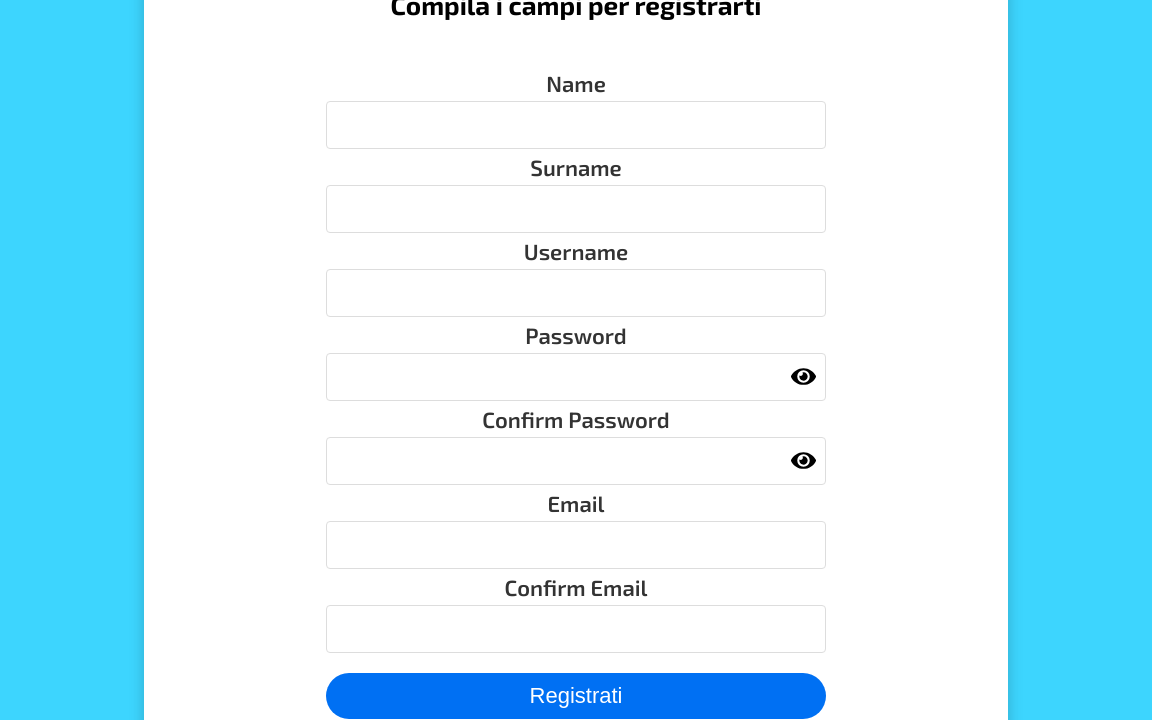
Test: Input Field Props › should hide the password when the toggle button is clicked
(page scrolled)
expect the 1st password field is shown: met, box [326,353,826,401]
Click the 1st button at (804, 380), box [791,364,816,395]
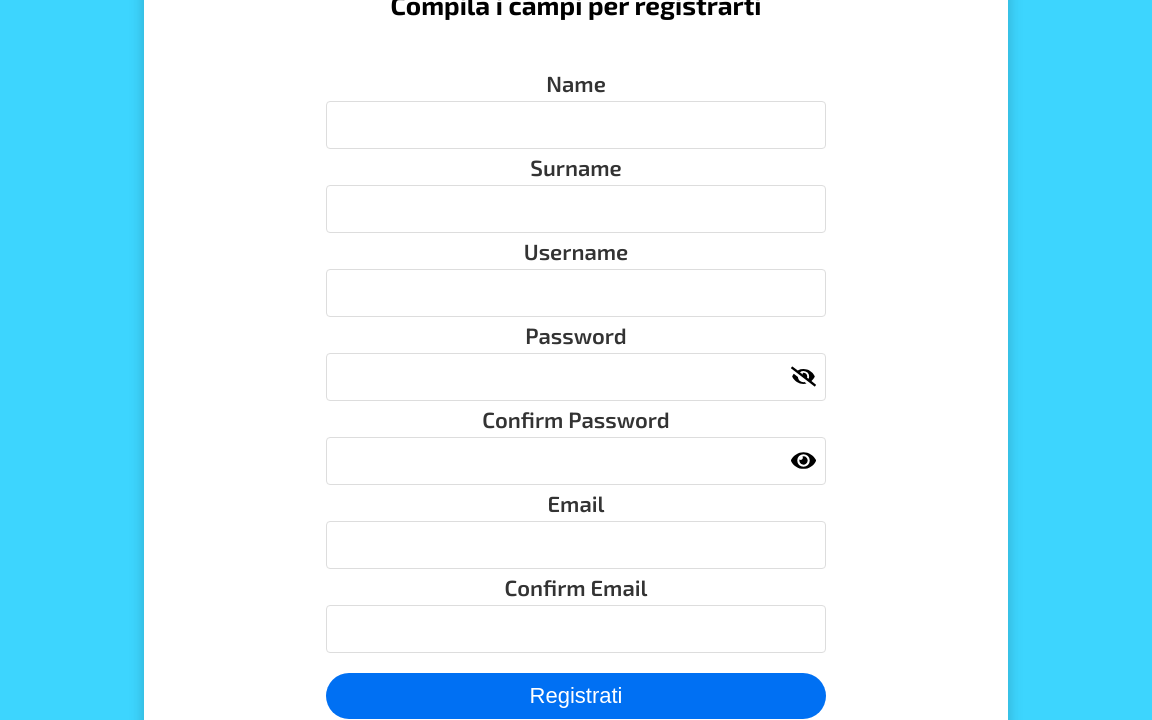
Type "hello" into the 4th field at (576, 377), box [326,353,826,401]
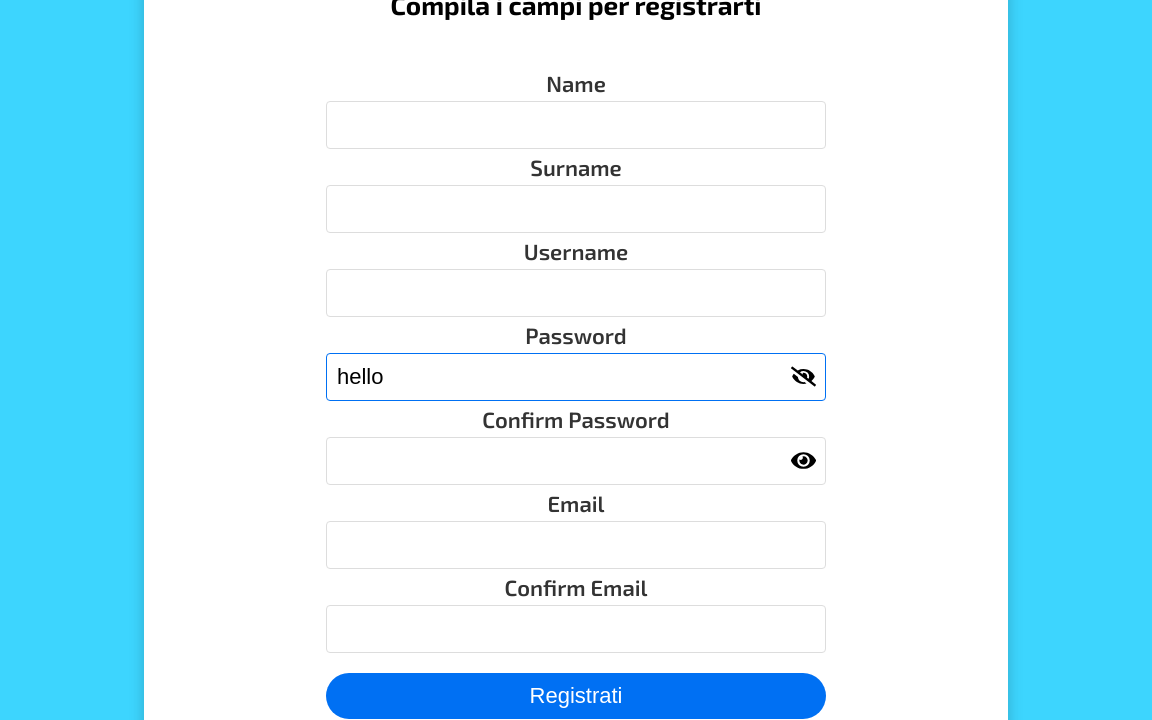
expect the 4th field shows its text: met, box [326,353,826,401]
Click the 1st button at (804, 380), box [791,364,816,395]
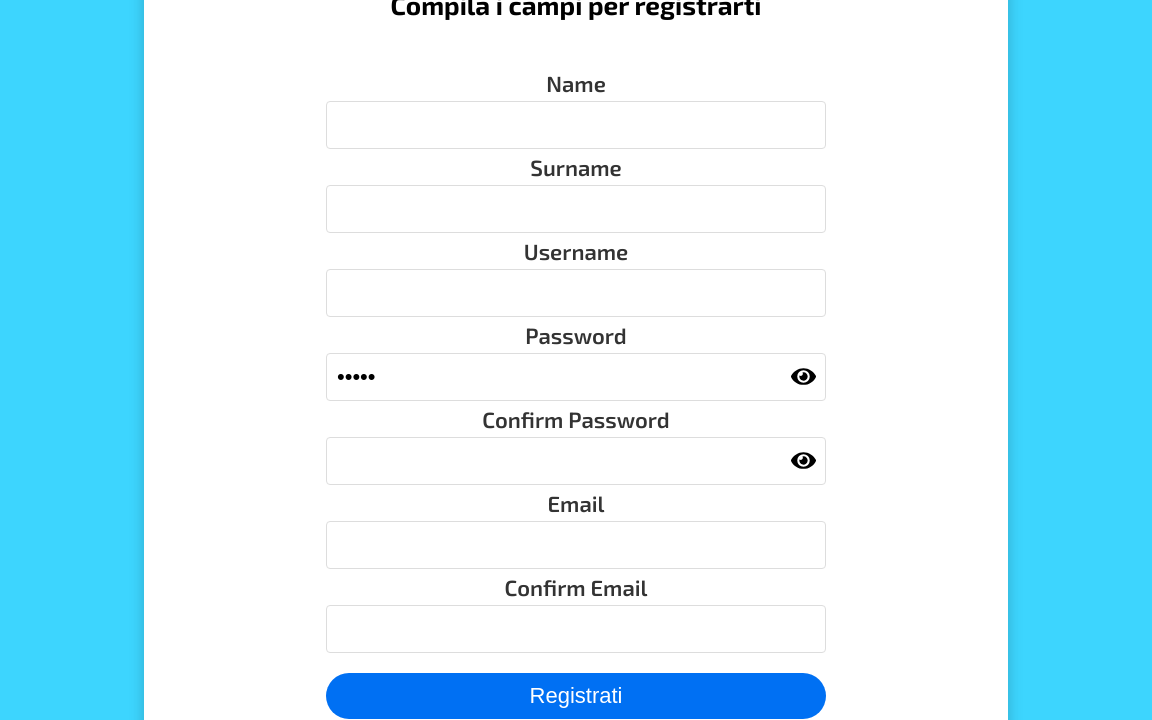
expect the 1st password field hides its text: met, box [326,353,826,401]
